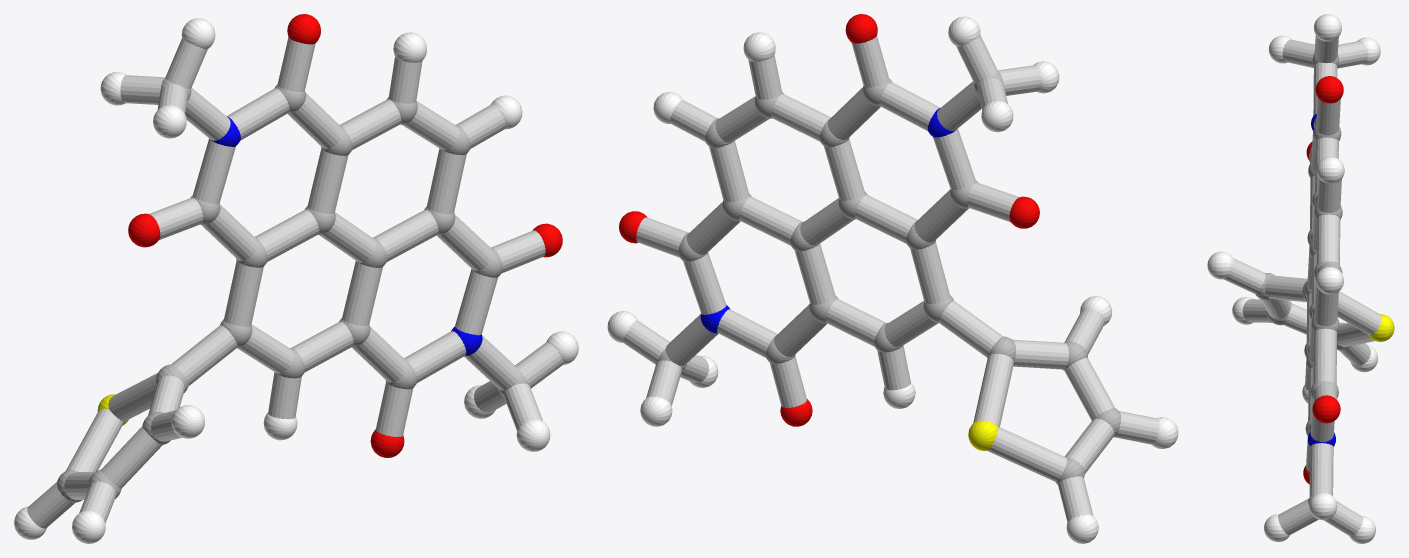
The model's file is Dimethyl_Naphthalene_Dicarboximide_Phi_15_Theta_290_Thiophene.glb.
3 renders of one model, left to right at view 1: azimuth 30°, elevation 25°; view 2: azimuth 150°, elevation 25°; view 3: azimuth 270°, elevation 25°, orthographic. The views are drawn at different scales.
Visible parts, largest first — view 1: grp14119, grp7241, grp1, grp12309, grp11585; view 2: grp14119, grp7241, grp1, grp12309, grp13757, grp11585; view 3: grp14119, grp7241, grp1, grp12309, grp13757.
Part boxes in pixels (<box>): grp14119: <box>27,37,563,528</box>; grp7241: <box>14,18,578,543</box>; grp1: <box>57,78,529,502</box>; grp12309: <box>128,14,562,457</box>; grp11585: <box>209,116,482,355</box>; grp14119: <box>623,35,1159,522</box>; grp7241: <box>607,16,1178,543</box>; grp1: <box>657,71,1120,484</box>; grp12309: <box>619,14,1039,426</box>; grp13757: <box>968,420,998,450</box>; grp11585: <box>700,108,955,333</box>; grp14119: <box>1224,35,1381,536</box>; grp7241: <box>1207,14,1380,543</box>; grp1: <box>1255,52,1350,504</box>; grp12309: <box>1303,76,1343,484</box>; grp13757: <box>1368,314,1394,341</box>.
Bounding box in the file's own units: 11.23 × 9.76 × 3.99.
